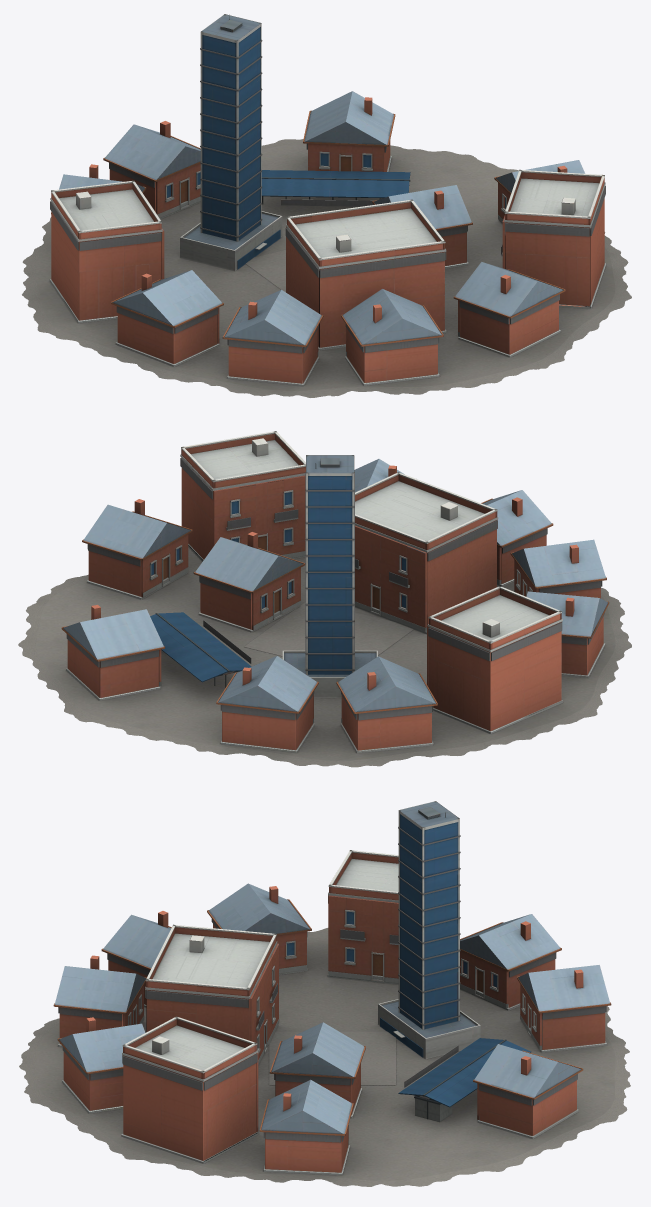
Rendered from modern-town-medium-a-europe.glb.
The picture shows the model from 3 angles, top to bottom: view 1: azimuth 30°, elevation 25°; view 2: azimuth 150°, elevation 25°; view 3: azimuth 270°, elevation 25°; orthographic projection.
Visible parts, largest first — view 1: LOD0; view 2: LOD0; view 3: LOD0.
Part boxes in pixels (box(x1,y1,x2,y2)): LOD0: box(22, 14, 631, 397); LOD0: box(18, 431, 631, 767); LOD0: box(19, 801, 630, 1186).
Size of what is drawn, in the model's own units: 6.04 by 2.4 by 5.91.
Materials: 3 (3 with a texture image).
